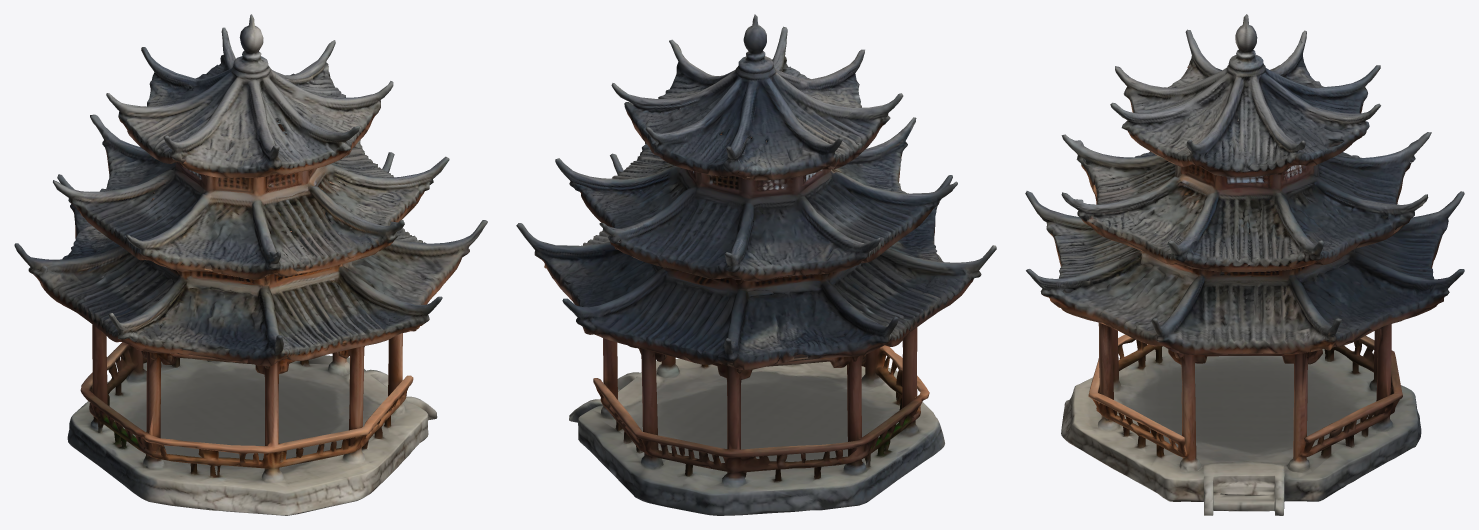
Rendered from city-pavilion.glb.
3 renders of one model, left to right at view 1: azimuth 30°, elevation 25°; view 2: azimuth 150°, elevation 25°; view 3: azimuth 270°, elevation 25°, orthographic. The views are drawn at different scales.
Parts seen in each view (by area): view 1: tripo_node_cb03e65d-29b0-46a8-b74c-cf662be23f3e; view 2: tripo_node_cb03e65d-29b0-46a8-b74c-cf662be23f3e; view 3: tripo_node_cb03e65d-29b0-46a8-b74c-cf662be23f3e.
Part boxes in pixels (x1,y1,x2,y2): tripo_node_cb03e65d-29b0-46a8-b74c-cf662be23f3e: (14, 14, 487, 515); tripo_node_cb03e65d-29b0-46a8-b74c-cf662be23f3e: (516, 14, 996, 515); tripo_node_cb03e65d-29b0-46a8-b74c-cf662be23f3e: (1025, 14, 1464, 515).
Bounding box in the file's own units: 4.64 × 5 × 4.71.
Materials: 1 (1 with a texture image).
